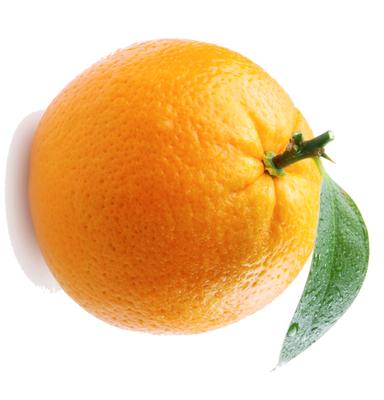orange: (0, 0, 384, 400)
